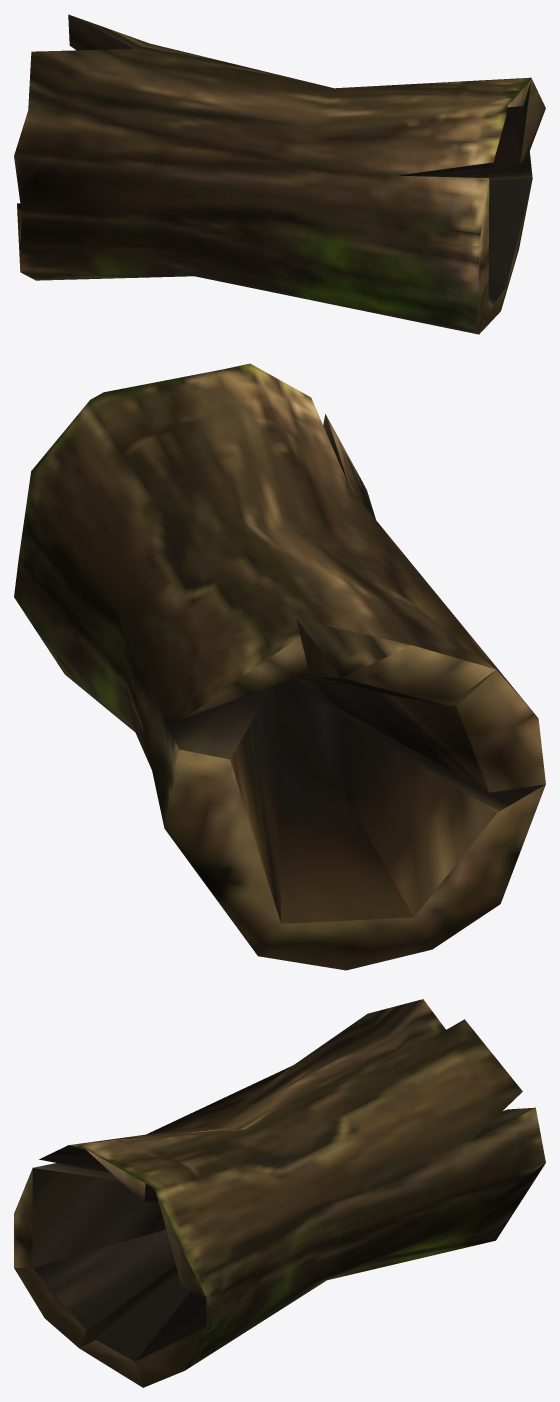
The model's file is mesh_quingming_tree_dead.FBX.
3 views of the same model, one above another, from view 1: azimuth 30°, elevation 25°; view 2: azimuth 150°, elevation 25°; view 3: azimuth 270°, elevation 25° (orthographic). The views are drawn at different scales.
Parts seen in each view (by area): view 1: mesh_quingming_tree_dead; view 2: mesh_quingming_tree_dead; view 3: mesh_quingming_tree_dead.
Part boxes in pixels (left/top/right/bottom): mesh_quingming_tree_dead: left=14, top=14, right=545, bottom=334; mesh_quingming_tree_dead: left=14, top=363, right=545, bottom=970; mesh_quingming_tree_dead: left=14, top=999, right=545, bottom=1387.
Size of the model in its own units: 2.89 by 1.5 by 3.03.
